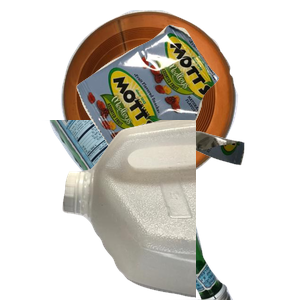glass: (37, 120, 262, 300)
metal: (58, 10, 289, 186)
plastic: (60, 120, 300, 300)
trash: (74, 22, 300, 185)
